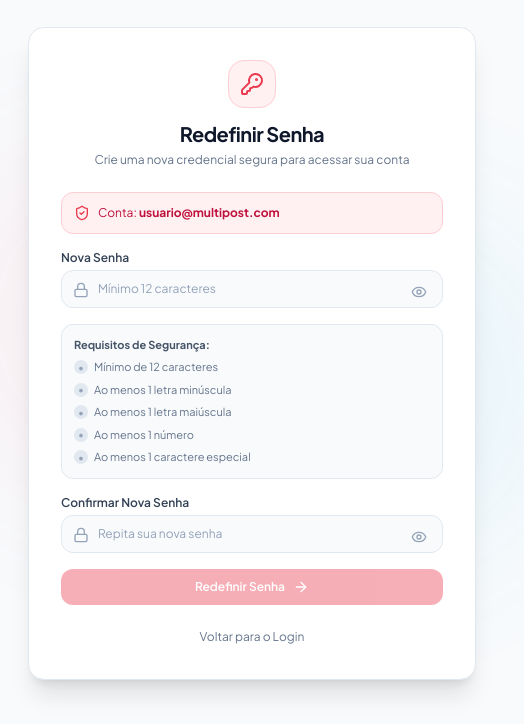
Test: ResetPasswordPage Component › renders form with user email and validates password criteria
Expected: the text "usuario@multipost.com" is shown, top-left (139, 204), bottom-right (280, 220)
Expected: the button with test id "btn-submit-reset-password" is disabled, top-left (61, 568), bottom-right (443, 604)
Type "fraca" into the password field with test id "input-reset-password".
click(252, 288); type("fraca")  # box top-left (61, 270), bottom-right (443, 308)
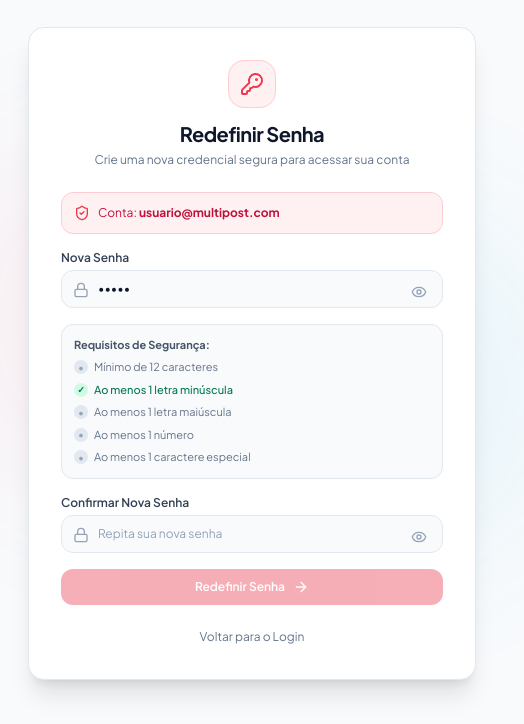
Type "fraca" into the password field with test id "input-reset-confirm-password".
click(252, 534); type("fraca")  # box top-left (61, 514), bottom-right (443, 552)
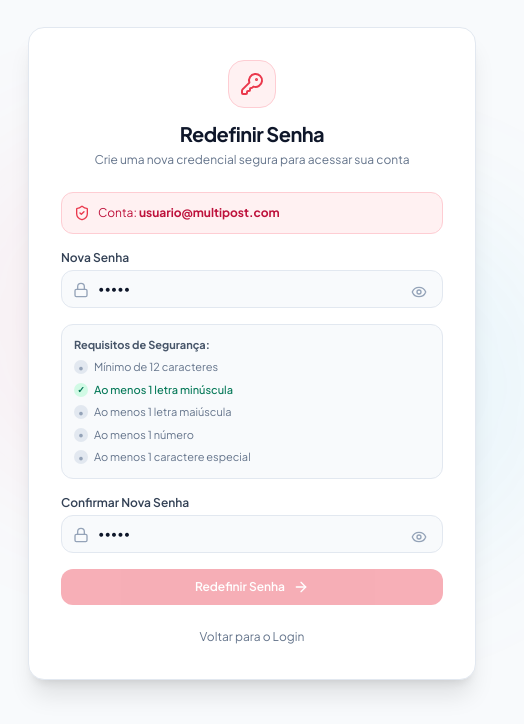
Expected: the button with test id "btn-submit-reset-password" is disabled, top-left (61, 568), bottom-right (443, 604)
// Digita senha forte (12 chars, maiusc, minusc, num, esp)
Type "MinhaSenhaForte@2026" into the password field with test id "input-reset-password".
click(252, 288); type("MinhaSenhaForte@2026")  # box top-left (61, 270), bottom-right (443, 308)
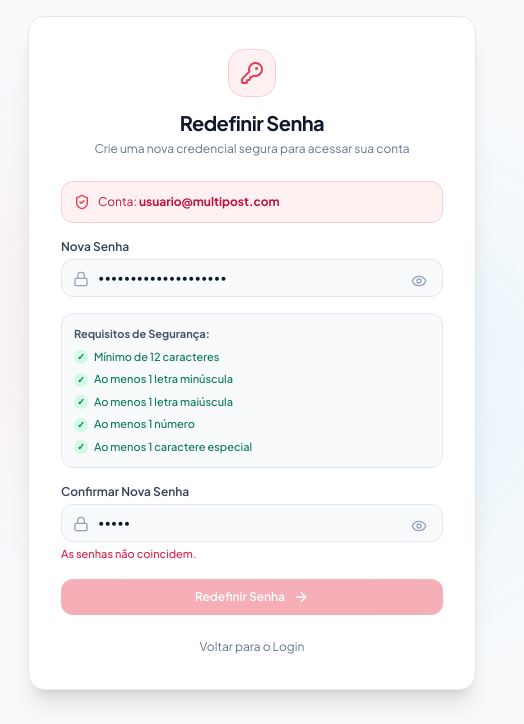
Type "MinhaSenhaForte@2026" into the password field with test id "input-reset-confirm-password".
click(252, 523); type("MinhaSenhaForte@2026")  # box top-left (61, 504), bottom-right (443, 542)
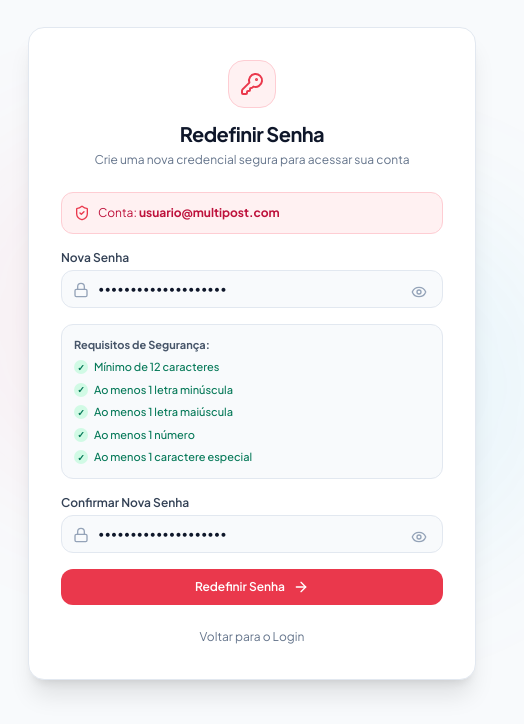
Now the button with test id "btn-submit-reset-password" is enabled, box top-left (61, 568), bottom-right (443, 604)
